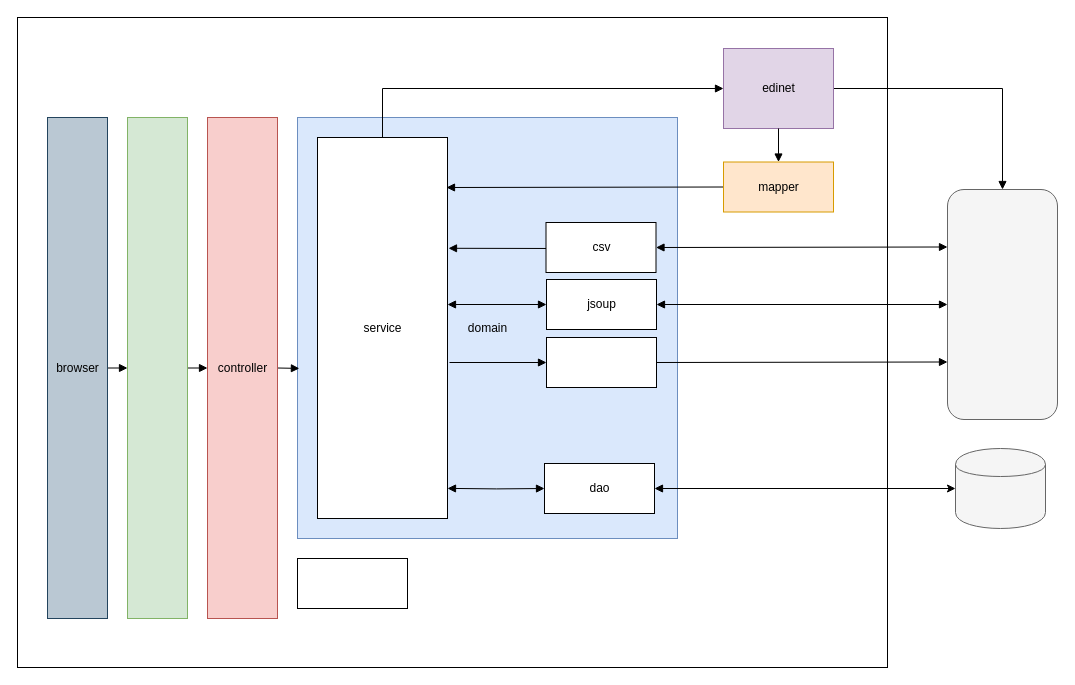
The diagram is 1075 pixels wide and 685 high, and some of its shapes have lost their labels. The box of each missing label's shape, as (x1, y1, x2, y2) in pixels:
config: (296, 558, 408, 608)
DB: (954, 448, 1046, 528)
file: (546, 336, 656, 388)
local folder: (946, 188, 1058, 420)
view: (126, 116, 188, 618)
